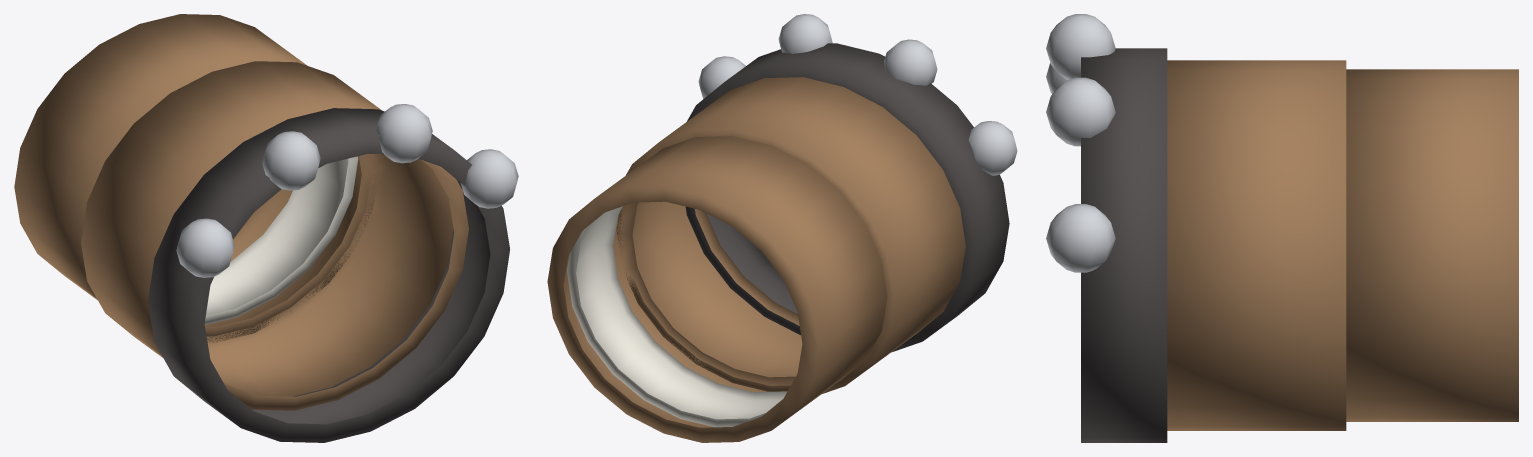
The model's file is w_faust_leder.glb.
The picture shows the model from 3 angles, left to right: view 1: azimuth 30°, elevation 25°; view 2: azimuth 150°, elevation 25°; view 3: azimuth 270°, elevation 25°; orthographic projection. The views are drawn at different scales.
Visible parts, largest first — view 1: G_w_faust_leder; view 2: G_w_faust_leder; view 3: G_w_faust_leder.
Part boxes in pixels (bbox=[...]): G_w_faust_leder: bbox=[14, 14, 518, 442]; G_w_faust_leder: bbox=[547, 14, 1017, 442]; G_w_faust_leder: bbox=[1046, 14, 1518, 442].
Bounding box in the file's own units: 0.1352 × 0.123 × 0.1425.
